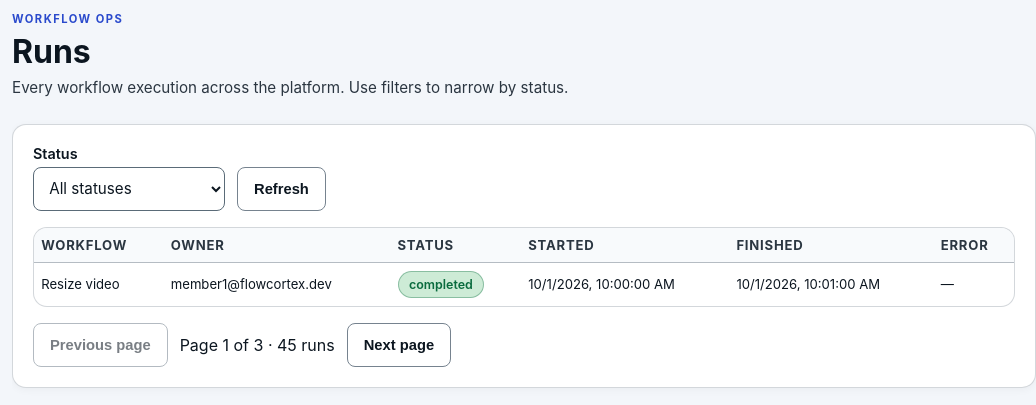
Test case: RunsPage › pages through the total with Previous and Next
Expected: the text "Page 1 of 3 · 45 runs" is shown, left=180, top=335, right=335, bottom=355
Click the button "Next page".
click(399, 345)  # box left=347, top=323, right=451, bottom=367
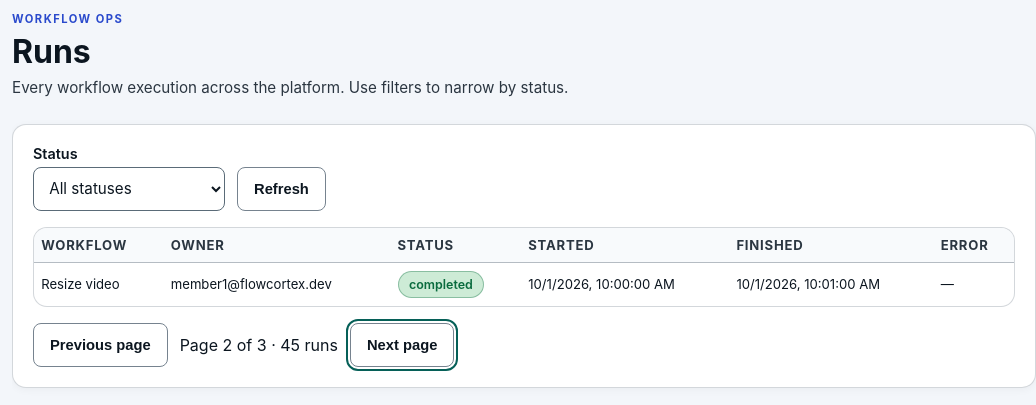
Result: the text "Page 2 of 3 · 45 runs" is shown at left=180, top=335, right=338, bottom=355
